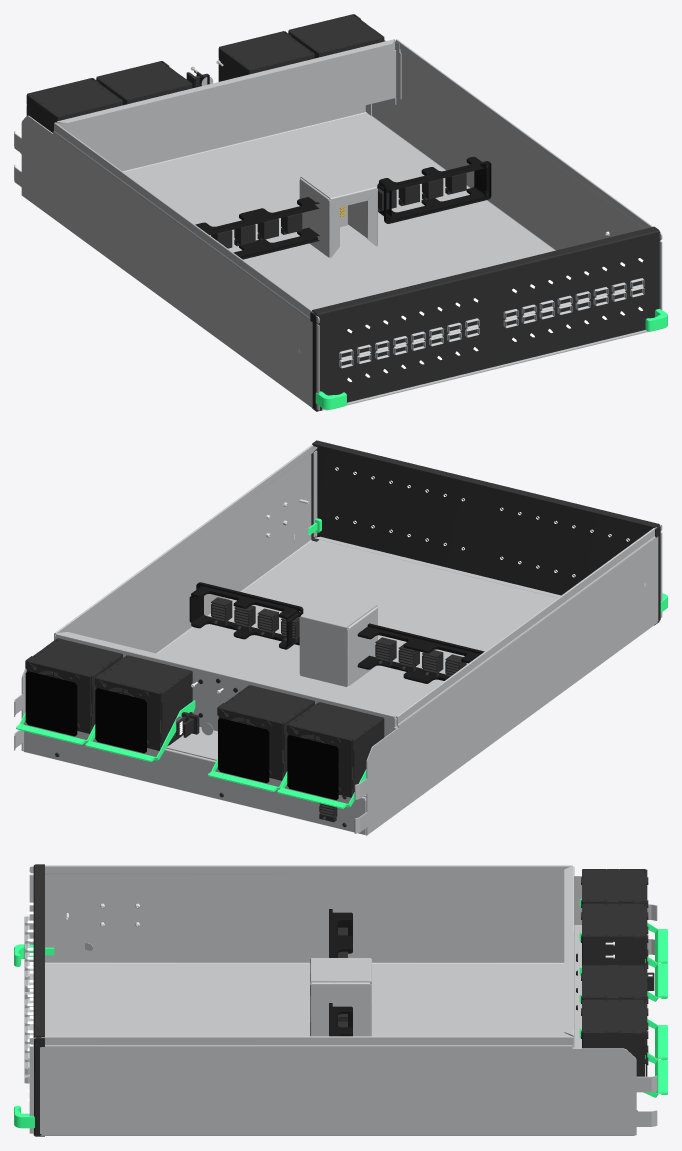
The model's file is sidecar-ext-1.glb.
3 views of the same model, one above another, from view 1: azimuth 30°, elevation 25°; view 2: azimuth 150°, elevation 25°; view 3: azimuth 270°, elevation 25° (orthographic). The views are drawn at different scales.
Parts seen in each view (by area): view 1: Plane.050, Fan_Screw_4.024_block.002, Cube.005, Plane.052, Samtec EBCF-X-4-12-RA-L_True Model Split.019, Fan_Frame_Side_block.001_block.002, Cube.047_block.002; view 2: Plane.050, Fan_Screw_4.024_block.002, Fan_Frame_Side_block.001_block.002, Plane.052, Cube.005, Samtec EBCF-X-4-12-RA-L_True Model Split.019, Cube.047_block.002; view 3: Plane.050, Fan_Screw_4.024_block.002, Plane.052, Fan_Frame_Side_block.001_block.002, Cube.005, Cube.047_block.002.
Part boxes in pixels (x1,y1,x2,y2): Plane.050: (14, 39, 662, 410); Fan_Screw_4.024_block.002: (26, 14, 660, 411); Cube.005: (195, 156, 491, 259); Plane.052: (299, 165, 377, 257); Samtec EBCF-X-4-12-RA-L_True Model Split.019: (211, 173, 466, 248); Fan_Frame_Side_block.001_block.002: (20, 153, 667, 409); Cube.047_block.002: (186, 71, 643, 381); Plane.050: (14, 444, 662, 835); Fan_Screw_4.024_block.002: (25, 440, 660, 797); Fan_Frame_Side_block.001_block.002: (16, 518, 667, 808); Plane.052: (299, 594, 377, 686); Cube.005: (189, 582, 484, 683); Samtec EBCF-X-4-12-RA-L_True Model Split.019: (211, 597, 466, 679); Cube.047_block.002: (55, 467, 629, 827); Plane.050: (24, 865, 657, 1135); Fan_Screw_4.024_block.002: (33, 864, 648, 1136); Plane.052: (310, 958, 371, 1036); Fan_Frame_Side_block.001_block.002: (14, 899, 667, 1128); Cube.005: (329, 909, 352, 1036); Cube.047_block.002: (27, 902, 654, 1111).
Bounding box in the file's own units: 17592 × 4862 × 28114.
